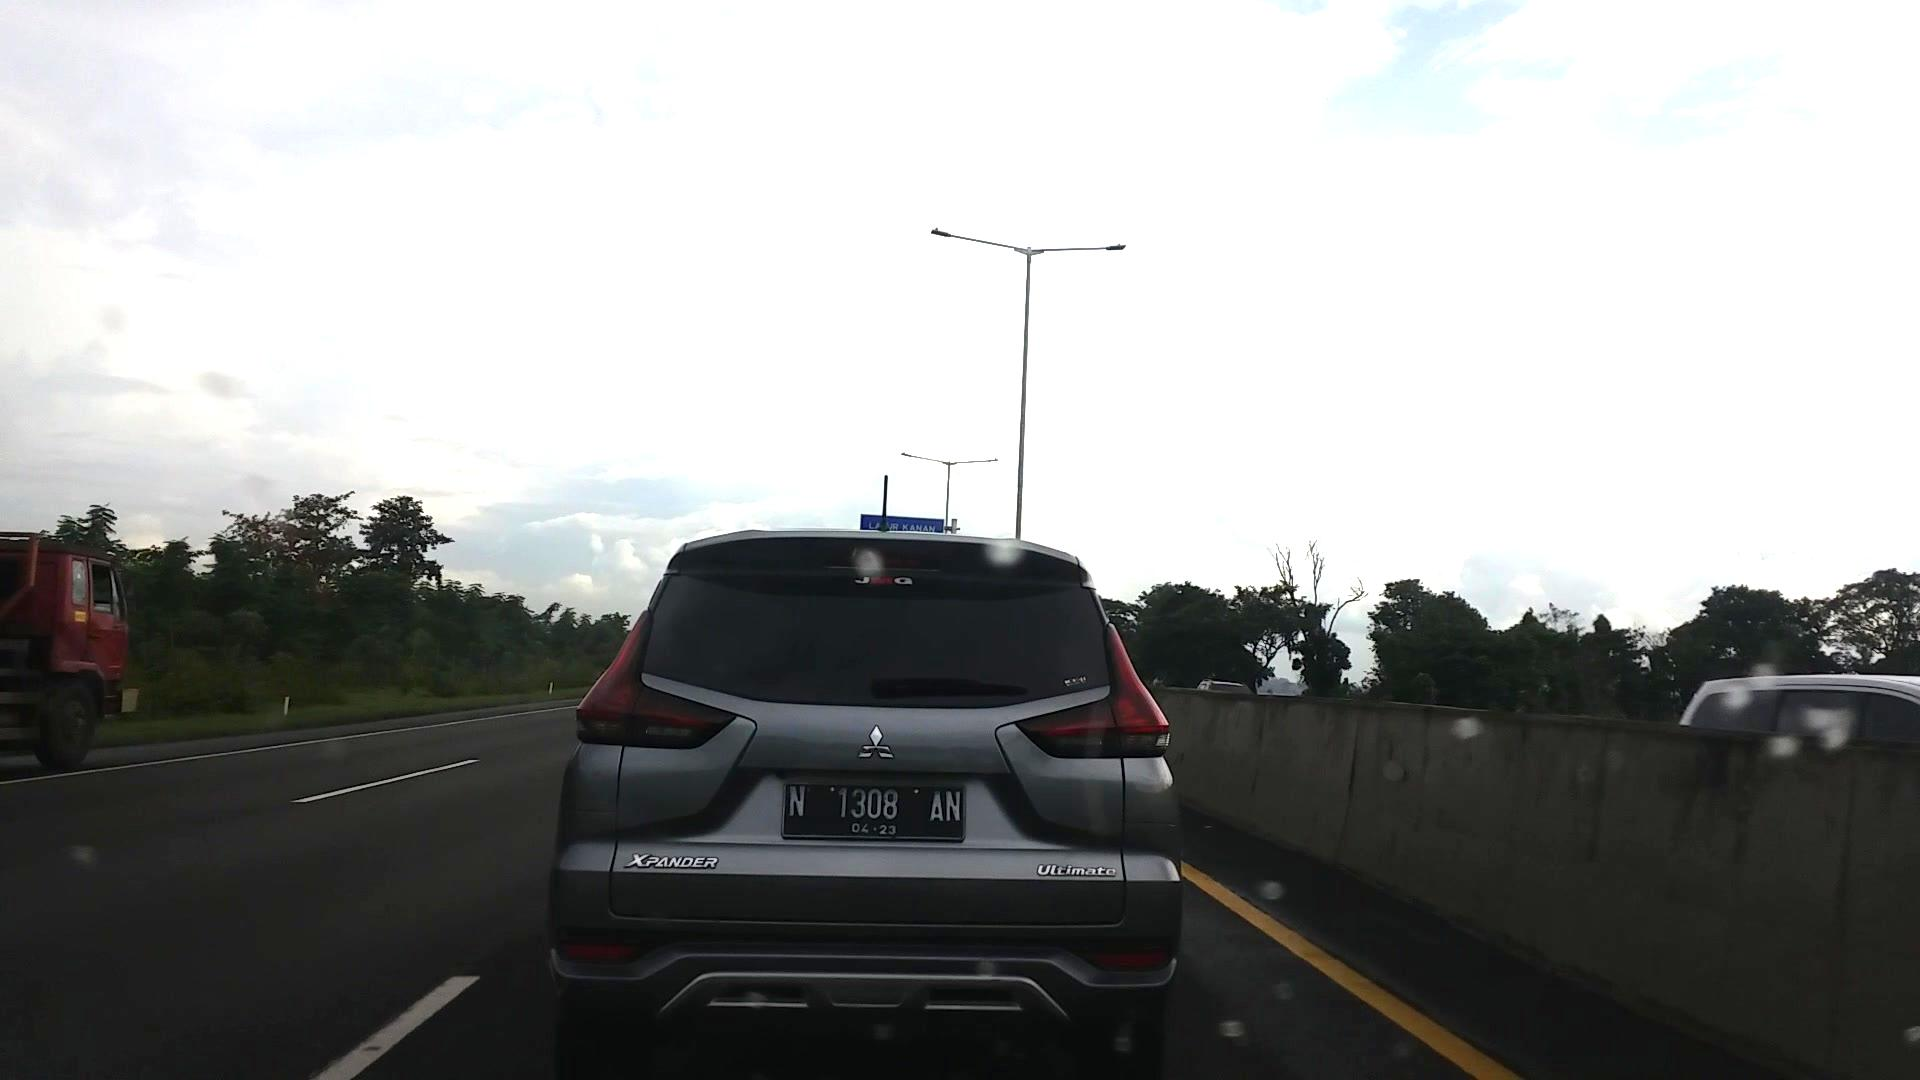plate_positive: (782, 782, 965, 843)
